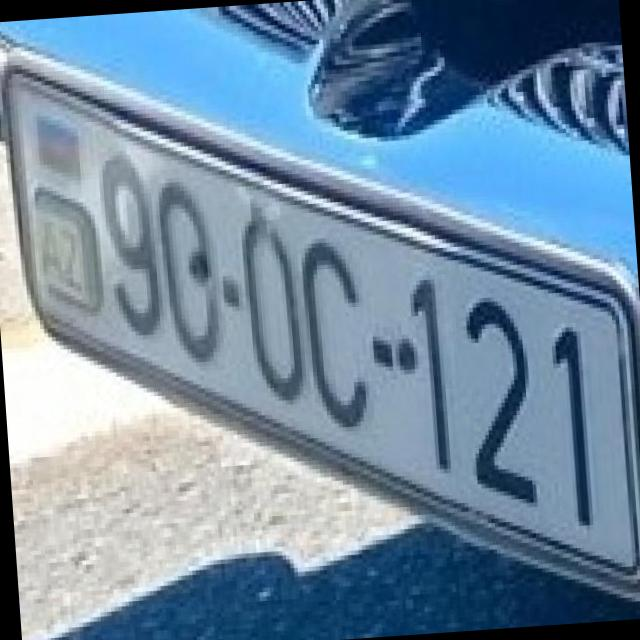0: (224, 182, 308, 408), (145, 157, 228, 364), (18, 157, 112, 316)
1: (523, 303, 604, 524), (386, 260, 458, 472)
2: (445, 273, 541, 512)
9: (81, 135, 164, 338)
C: (288, 218, 375, 430)
